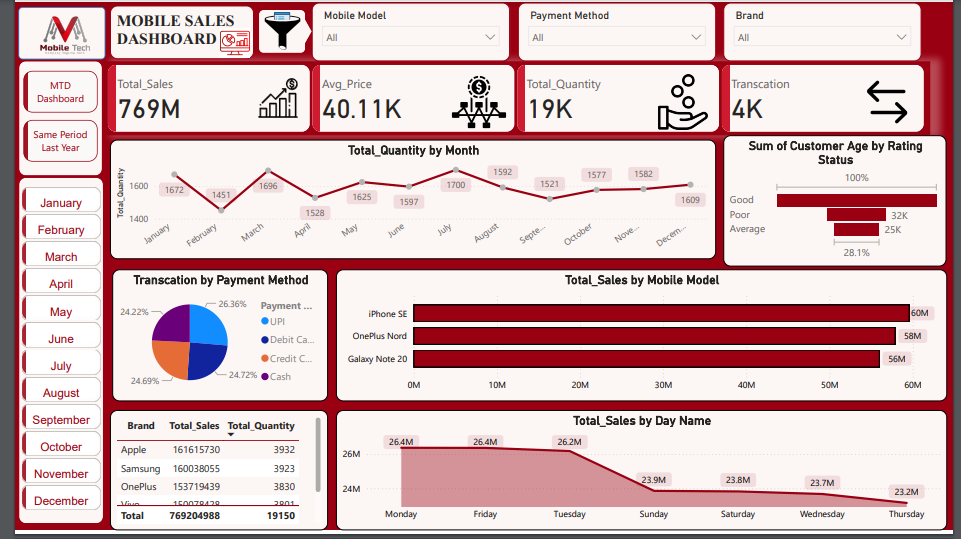

This screenshot's page, from the dashboard's own definition file:
{"tool":"powerbi","page":{"name":"Dashboard","canvas":[1280,720],"ordinal":0},"visuals":[{"type":"shape","box":[5.7,5.7,118.6,71.4],"z":0},{"type":"shape","box":[7.1,80,112.9,155.7],"z":1000},{"type":"shape","box":[7.1,238.6,114.3,471.4],"z":2000},{"type":"advancedSlicerVisual","fields":{"Values":["Custom_Calender.Date.Variation.Date Hierarchy.Month"]},"box":[5.7,247.1,117.1,451.4],"z":3000},{"type":"cardVisual","fields":{"Data":["Sales_Data.Total_Sales","Sales_Data.Avg_Price","Sales_Data.Total_Quantity","Sales_Data.Transcation"]},"box":[122.9,80,1125.7,101.4],"z":4000},{"type":"image","box":[0,0,135.7,91.4],"z":5000},{"type":"slicer","fields":{"Values":["Sales_Data.Mobile Model"]},"box":[407.1,0,270,80],"z":6000},{"type":"slicer","fields":{"Values":["Sales_Data.Payment Method"]},"box":[687.1,0,270,80],"z":7000},{"type":"slicer","fields":{"Values":["Sales_Data.Brand"]},"box":[967.1,0,270,80],"z":8000},{"type":"slicer","fields":{"Values":["Sales_Data.Mobile Model"]},"box":[405.7,0,270,80],"z":9000},{"type":"shape","box":[334.3,10,62.9,58.6],"z":10000},{"type":"shape","box":[372.6,10,32.6,58.4],"z":11000},{"type":"image","box":[327.4,5.8,78.4,65.8],"z":12000},{"type":"textbox","box":[131.4,4.3,195.7,72.9],"z":13000},{"type":"image","box":[272.9,30,55.7,50],"z":14000},{"type":"funnel","fields":{"Y":["Sum(Sales_Data.Customer Age)"],"Category":["Sales_Data.Rating Status"]},"box":[967.1,181.4,304.3,178.6],"z":15000},{"type":"pieChart","fields":{"Y":["Sales_Data.Transcation"],"Category":["Sales_Data.Payment Method"]},"box":[134.3,364.3,294.3,180],"z":16000},{"type":"clusteredBarChart","fields":{"Y":["Sales_Data.Total_Sales"],"Category":["Sales_Data.Mobile Model"]},"box":[438.6,364.3,832.9,180],"z":17000},{"type":"areaChart","fields":{"Category":["Custom_Calender.Day Name"],"Y":["Sales_Data.Total_Sales"]},"box":[438.6,555.7,832.9,164.3],"z":18000},{"type":"tableEx","fields":{"Values":["Sales_Data.Brand","Sales_Data.Total_Sales","Sales_Data.Total_Quantity"]},"box":[131.4,555.7,297.1,164.3],"z":19000},{"type":"lineChart","fields":{"Category":["Custom_Calender.Date.Variation.Date Hierarchy.Month"],"Y":["Sales_Data.Total_Quantity"]},"box":[131.4,187.1,825.7,162.9],"z":20000},{"type":"pageNavigator","box":[12.9,92.9,101.4,125.7],"z":21000}]}

Visuals, with their boxes in screenshot pixels (x1, y1, x2, y2), scaled from the page's 1280x720 canvas onto the 961x539 screenshot:
shape: l=4, t=4, r=93, b=58
shape: l=5, t=60, r=90, b=176
shape: l=5, t=179, r=91, b=532
advancedSlicerVisual - Custom_Calender.Date.Variation.Date Hierarchy.Month: l=4, t=185, r=92, b=523
cardVisual - Sales_Data.Total_Sales x Sales_Data.Avg_Price: l=92, t=60, r=937, b=136
image: l=0, t=0, r=102, b=68
slicer - Sales_Data.Mobile Model: l=306, t=0, r=508, b=60
slicer - Sales_Data.Payment Method: l=516, t=0, r=719, b=60
slicer - Sales_Data.Brand: l=726, t=0, r=929, b=60
slicer - Sales_Data.Mobile Model: l=305, t=0, r=507, b=60
shape: l=251, t=7, r=298, b=51
shape: l=280, t=7, r=304, b=51
image: l=246, t=4, r=305, b=54
textbox: l=99, t=3, r=246, b=58
image: l=205, t=22, r=247, b=60
funnel - Sum(Sales_Data.Customer Age) x Sales_Data.Rating Status: l=726, t=136, r=955, b=270
pieChart - Sales_Data.Transcation x Sales_Data.Payment Method: l=101, t=273, r=322, b=407
clusteredBarChart - Sales_Data.Total_Sales x Sales_Data.Mobile Model: l=329, t=273, r=955, b=407
areaChart - Custom_Calender.Day Name x Sales_Data.Total_Sales: l=329, t=416, r=955, b=538
tableEx - Sales_Data.Brand x Sales_Data.Total_Sales: l=99, t=416, r=322, b=538
lineChart - Custom_Calender.Date.Variation.Date Hierarchy.Month x Sales_Data.Total_Quantity: l=99, t=140, r=719, b=262
pageNavigator: l=10, t=70, r=86, b=164
